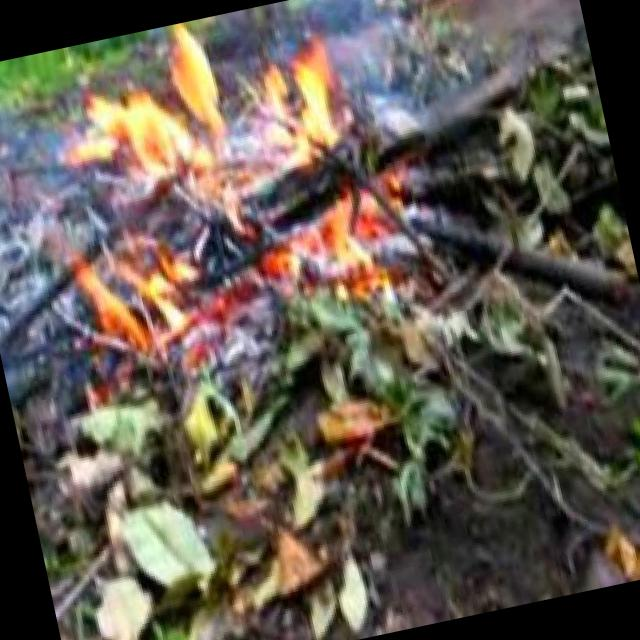Fire: (8, 0, 428, 368)
